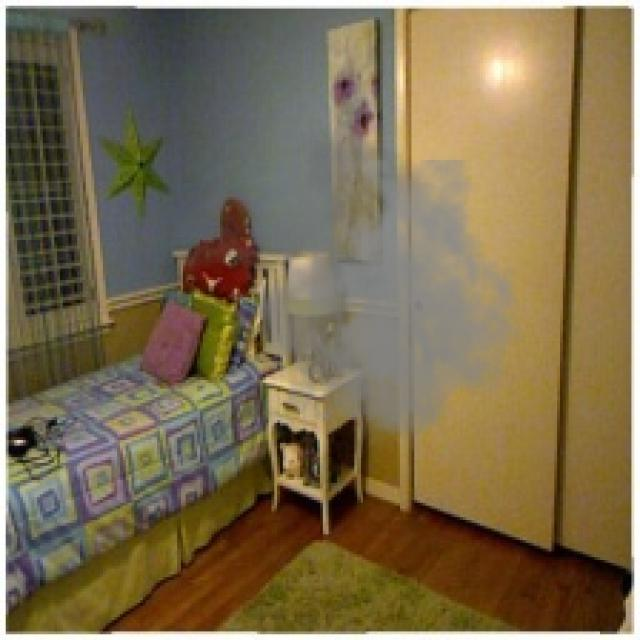smoke: (163, 117, 526, 460)
